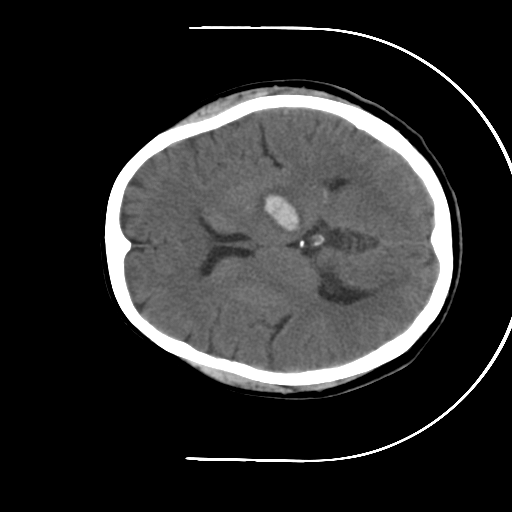a: (244, 177, 313, 247)
